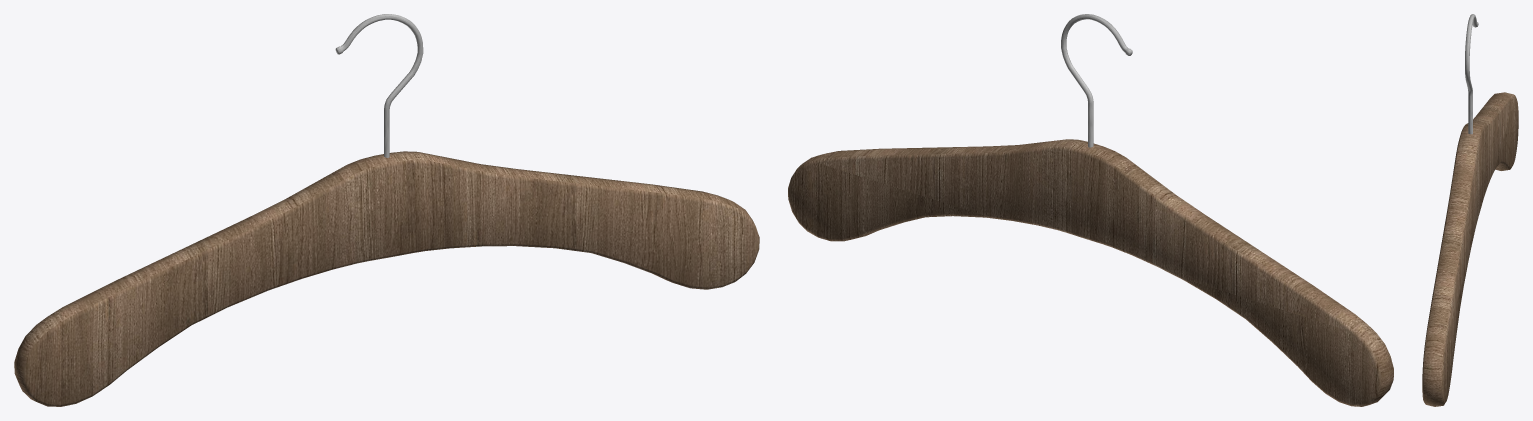
Rendered from YMJ-衣架1.fbx.
3 views of the same model, side by side, from view 1: azimuth 30°, elevation 25°; view 2: azimuth 150°, elevation 25°; view 3: azimuth 270°, elevation 25° (orthographic). The views are drawn at different scales.
Visible parts, largest first — view 1: YMJ-衣架1; view 2: YMJ-衣架1; view 3: YMJ-衣架1.
Boxes of the visible parts, x1,y1,x2,y2 form: YMJ-衣架1: [14, 14, 759, 406]; YMJ-衣架1: [788, 14, 1393, 406]; YMJ-衣架1: [1422, 14, 1518, 406].
Bounding box in the file's own units: 0.4234 × 0.064 × 0.1933.
